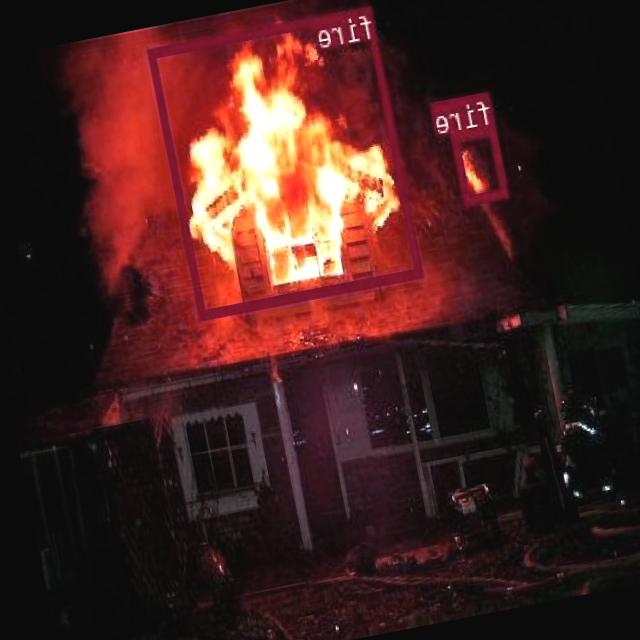fire: (148, 4, 424, 319), (452, 124, 510, 203)
